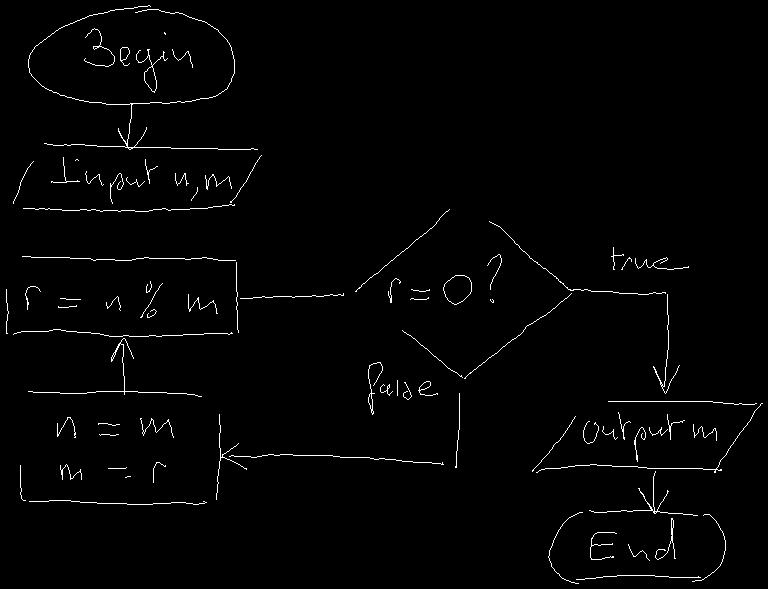arrow: (221, 393, 459, 469), (573, 289, 679, 393), (118, 103, 146, 149), (638, 471, 668, 513), (111, 338, 133, 394), (240, 293, 343, 298)
data: (13, 143, 261, 211), (532, 401, 762, 472)
decision: (355, 209, 572, 378)
process: (20, 391, 220, 504), (6, 256, 238, 336)
terminator: (28, 5, 234, 104), (548, 510, 725, 583)
text: (51, 157, 231, 203), (57, 417, 173, 482), (84, 28, 192, 92), (25, 281, 217, 317), (583, 412, 716, 461), (388, 254, 501, 304), (368, 362, 437, 414), (590, 518, 675, 560), (611, 247, 688, 269)
